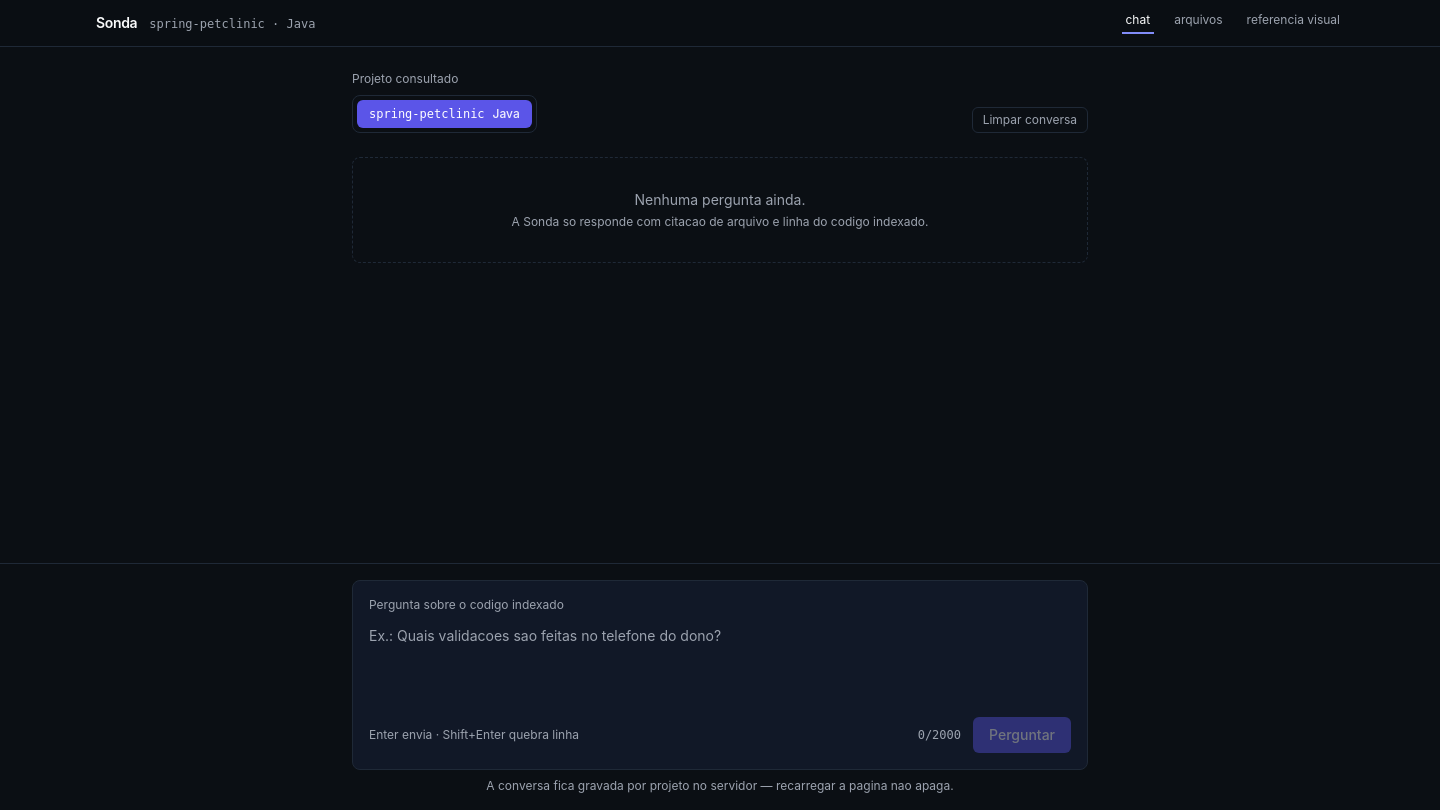
Test: ChatPage › mapeia o 422 da API para mensagem em pt-BR e oferece repetir
In the text box labelled "Pergunta sobre o codigo indexado": [720, 665] box x1=369 y1=625 x2=1071 y2=705, type "qualquer coisa"
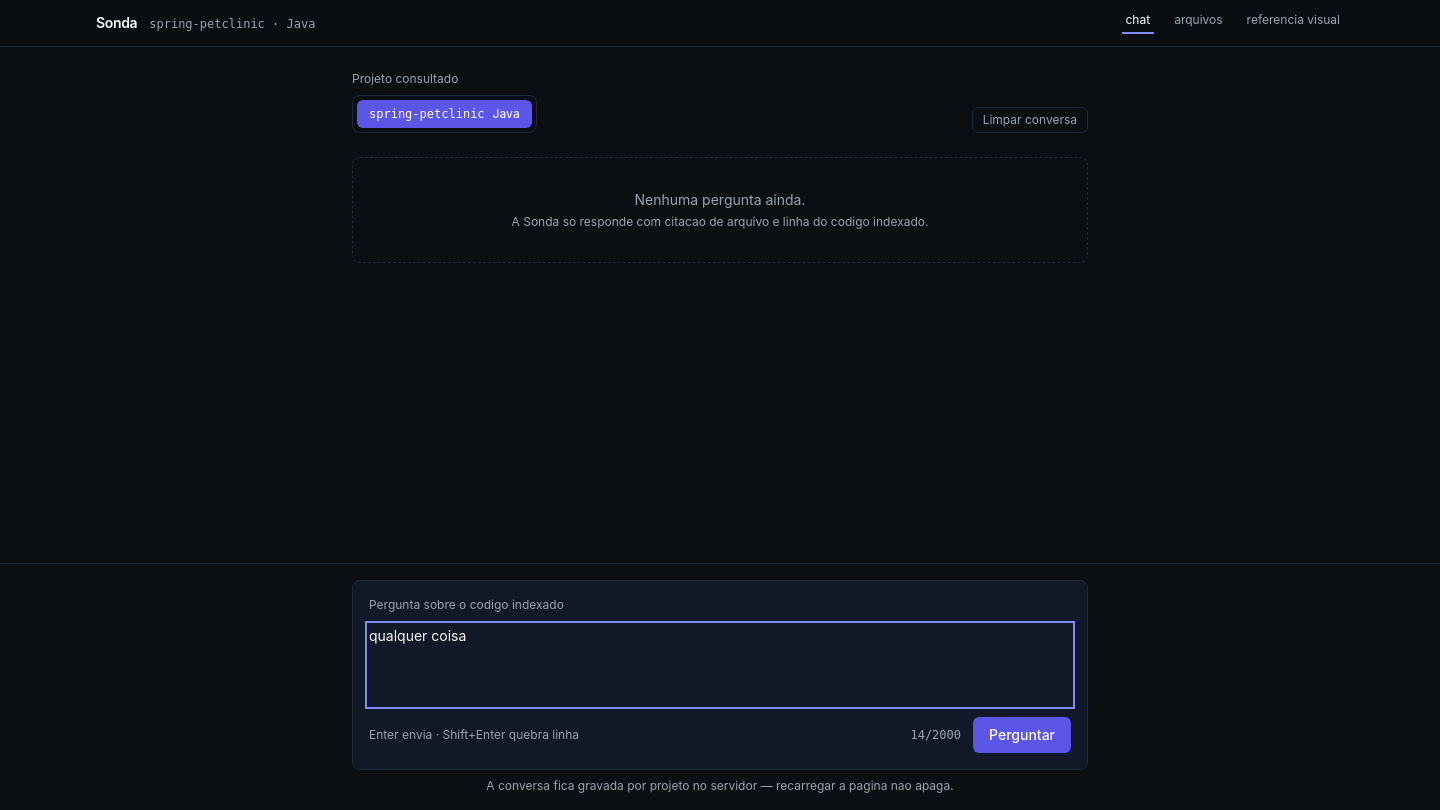
Press Enter
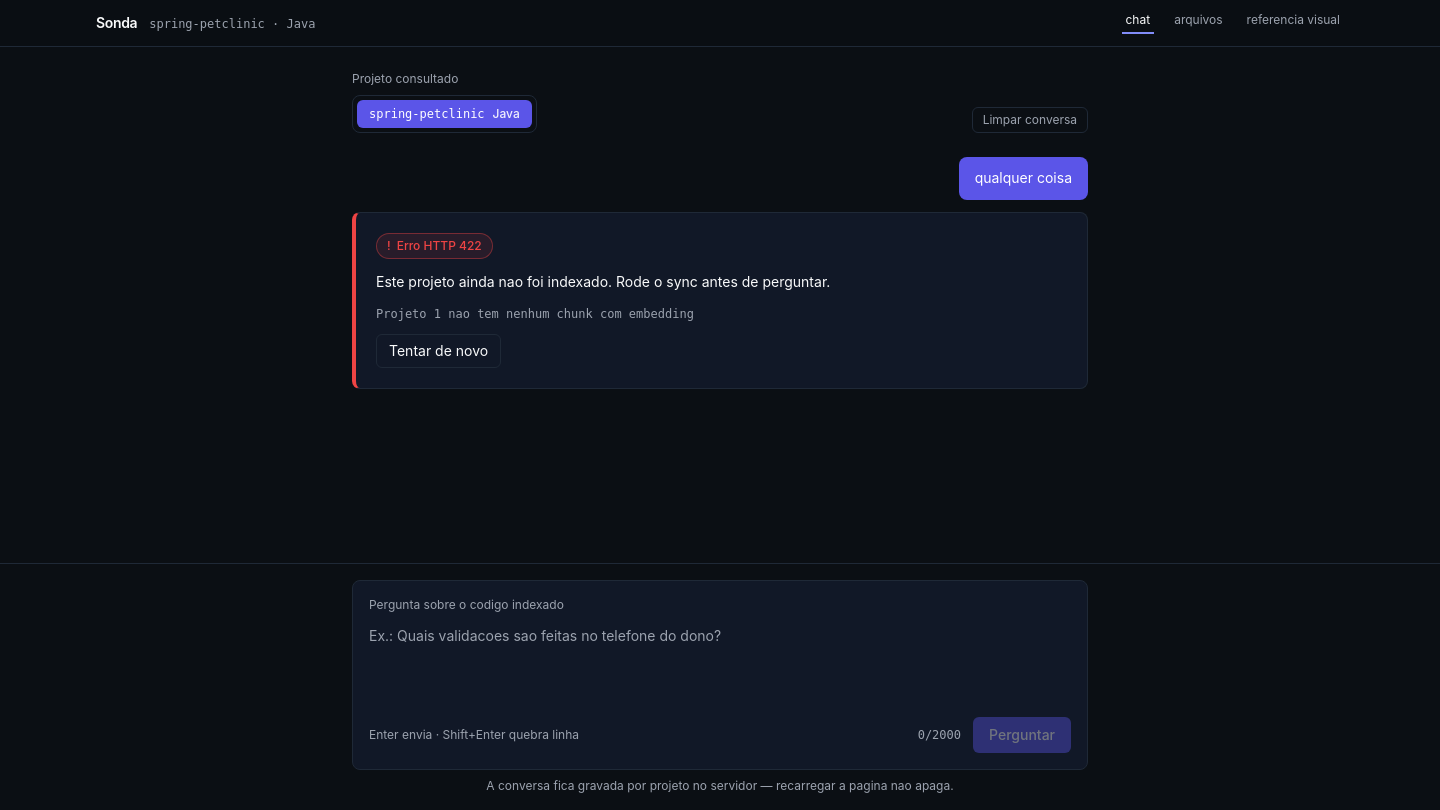
Now the message shows "Erro HTTP 422", box x1=397 y1=238 x2=482 y2=253
Now the message shows "Este projeto ainda nao foi indexado", box x1=376 y1=273 x2=830 y2=290
Now the button "Tentar de novo" is shown, box x1=376 y1=334 x2=501 y2=368
